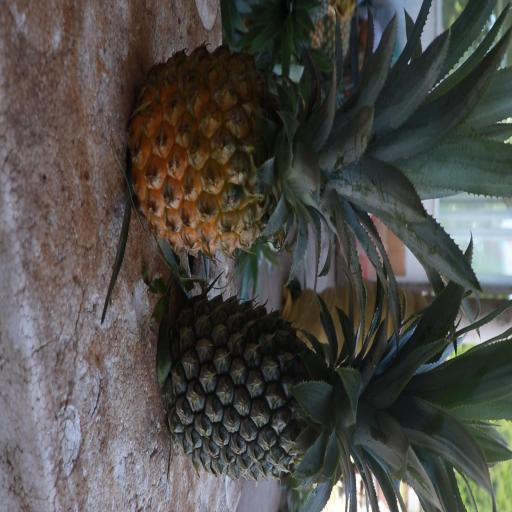Pineapple - v8 v1: (136, 46, 450, 251)
